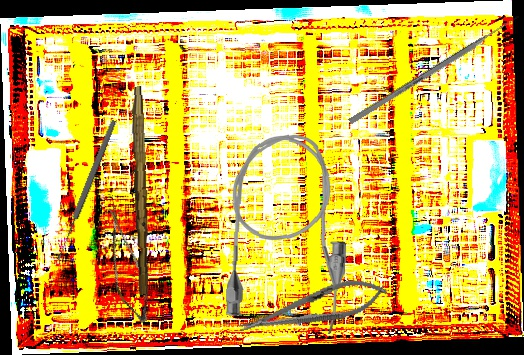Cannula: (225, 131, 350, 335)
Micro Scissor: (81, 203, 168, 327)
Needle Holder: (233, 269, 392, 347)
Pusher: (348, 13, 521, 126)
Scalpel Handle: (127, 86, 153, 295)
Surgical Spoon: (54, 118, 118, 262)
